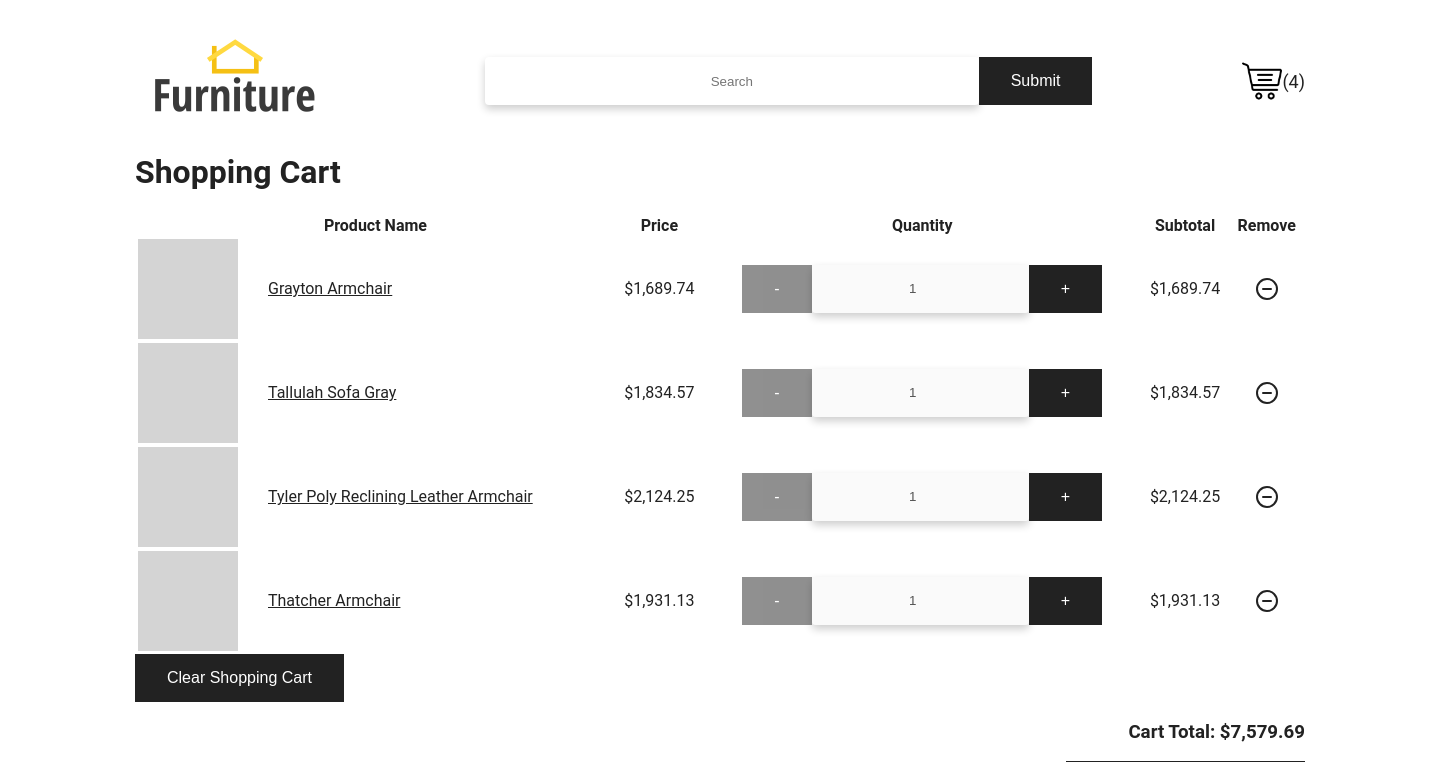
Test: Shopping Cart with initial state › should show the empty state message when clicking on clear shopping cart button
Check: the text "Shopping Cart is Empty" is not shown
Click the button "Clear Shopping Cart" at {"x": 240, "y": 678}, box [135,654,344,702]
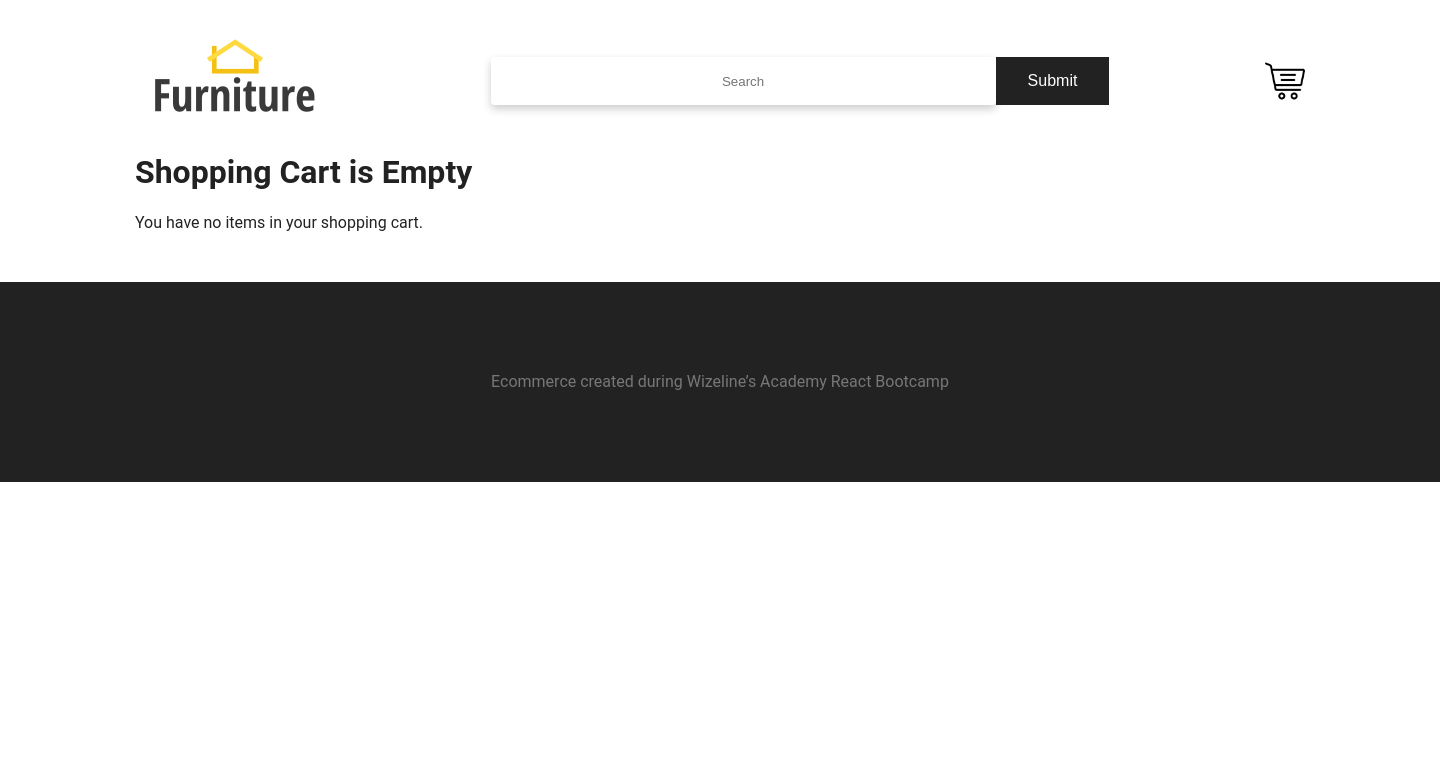
Check: the heading "Shopping Cart is Empty" is shown, box [135,153,472,191]
